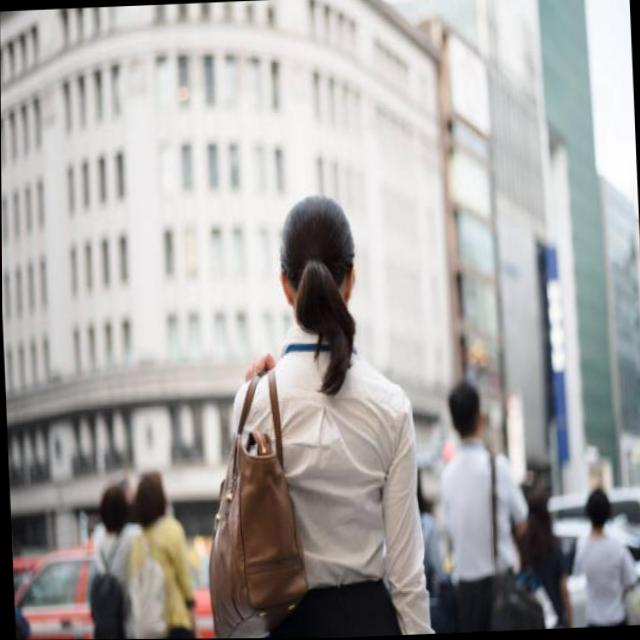no helmet: (252, 180, 373, 395)
